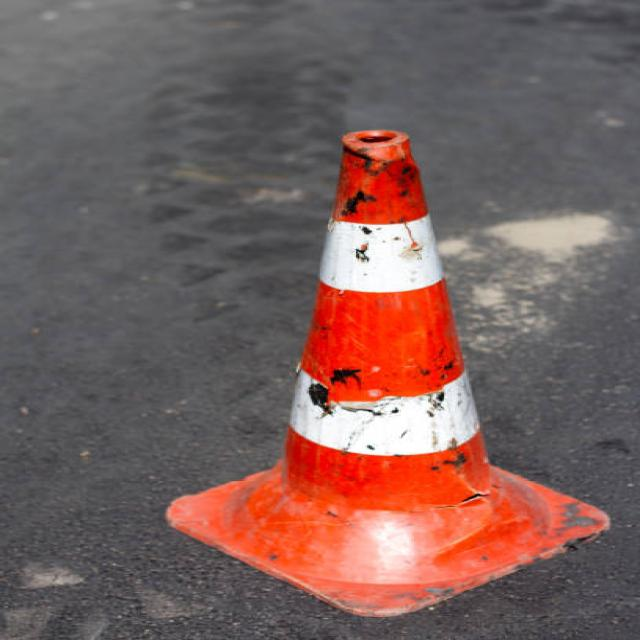Traffic Cone: (120, 101, 640, 640)
